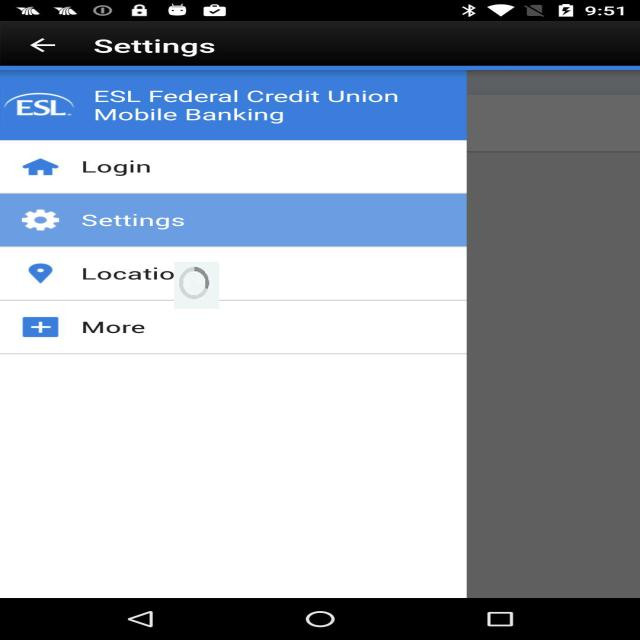misdirection: (174, 262, 219, 309)
